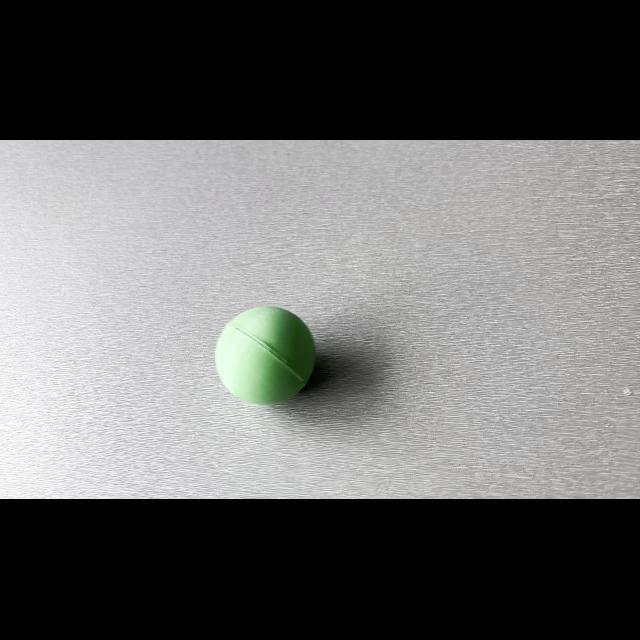objects: (208, 298, 326, 410)
